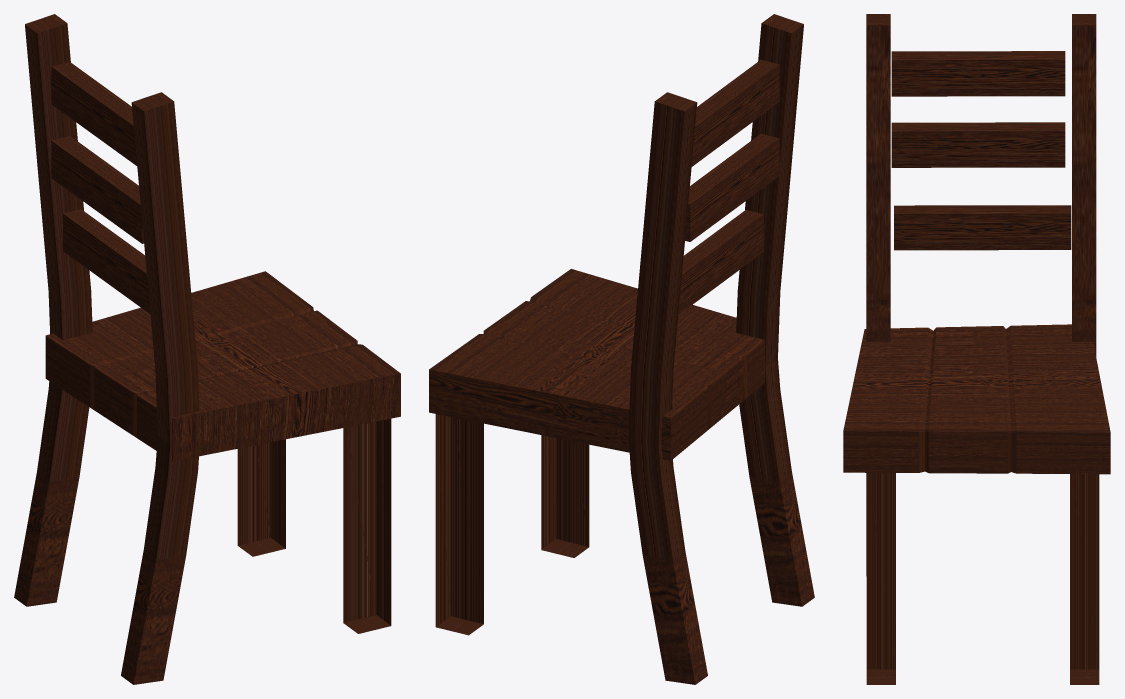
Rendered from SM_Prop_Chair_01.fbx.
3 renders of one model, left to right at view 1: azimuth 30°, elevation 25°; view 2: azimuth 150°, elevation 25°; view 3: azimuth 270°, elevation 25°, orthographic. The views are drawn at different scales.
Parts seen in each view (by area): view 1: Plane.002, Cube.005, Cube.001, Plane, Plane.001, Cube.004, Cube.003, Cube.002; view 2: Plane.002, Cube.001, Cube.005, Plane.001, Plane, Cube.004, Cube.002, Cube.003; view 3: Plane.002, Cube.005, Cube.001, Cube.003, Cube.002, Cube.004, Plane, Plane.001.
Part boxes in pixels (left/top/right/bottom): Plane.002: left=45, top=271, right=400, bottom=461; Cube.005: left=121, top=92, right=199, bottom=684; Cube.001: left=14, top=14, right=92, bottom=606; Plane: left=343, top=418, right=391, bottom=633; Plane.001: left=237, top=439, right=285, bottom=556; Cube.004: left=51, top=136, right=143, bottom=243; Cube.003: left=63, top=209, right=150, bottom=313; Cube.002: left=51, top=62, right=137, bottom=165; Plane.002: left=429, top=269, right=764, bottom=460; Cube.001: left=628, top=92, right=707, bottom=684; Cube.005: left=736, top=14, right=814, bottom=606; Plane.001: left=435, top=414, right=483, bottom=635; Plane: left=541, top=435, right=589, bottom=557; Cube.004: left=685, top=134, right=779, bottom=241; Cube.002: left=691, top=60, right=779, bottom=166; Cube.003: left=678, top=210, right=763, bottom=314; Plane.002: left=843, top=324, right=1110, bottom=474; Cube.005: left=866, top=14, right=890, bottom=575; Cube.001: left=1072, top=14, right=1096, bottom=356; Cube.003: left=894, top=205, right=1071, bottom=250; Cube.002: left=891, top=51, right=1065, bottom=96; Cube.004: left=891, top=122, right=1065, bottom=167; Plane: left=866, top=473, right=895, bottom=684; Plane.001: left=1070, top=474, right=1099, bottom=684.
Bounding box in the file's own units: 56.28 × 120 × 52.19.
